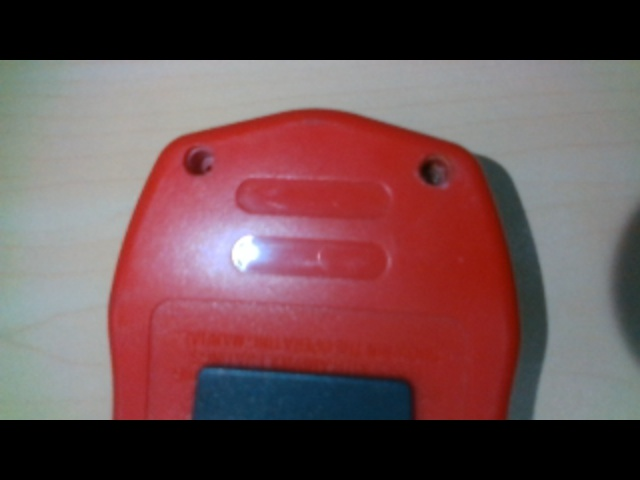Screw holes: (417, 151, 454, 190), (178, 143, 219, 178)
